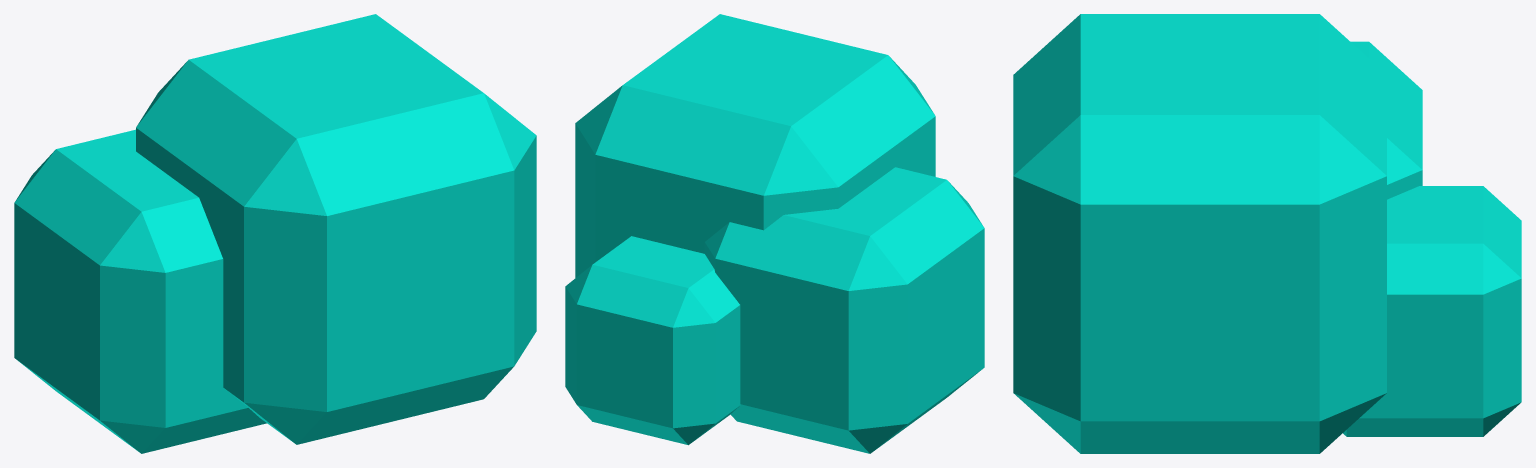
File: booltonium.glb
3 renders of one model, left to right at view 1: azimuth 30°, elevation 25°; view 2: azimuth 150°, elevation 25°; view 3: azimuth 270°, elevation 25°, orthographic. The views are drawn at different scales.
Parts seen in each view (by area): view 1: Cube; view 2: Cube; view 3: Cube.
Boxes of the visible parts, bbox=[...] form: Cube: bbox=[14, 14, 536, 453]; Cube: bbox=[565, 14, 984, 453]; Cube: bbox=[1013, 14, 1521, 453].
Size of the model in its own units: 4.69 by 3.68 by 4.77.
